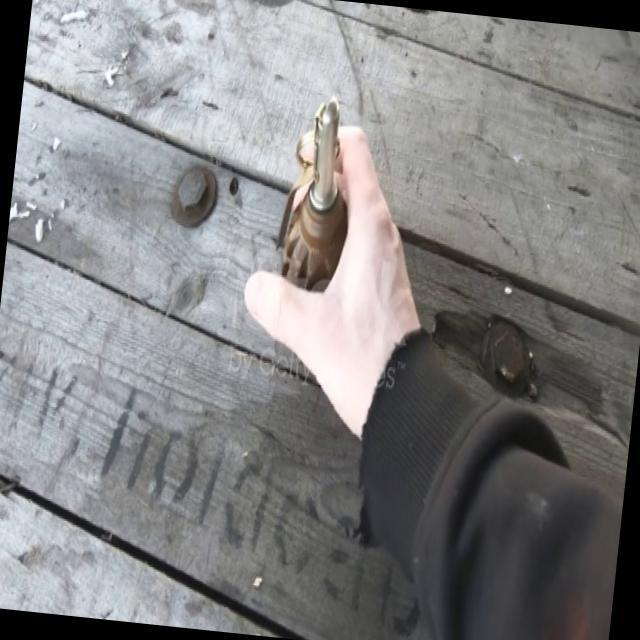grenade: (274, 81, 361, 292)
